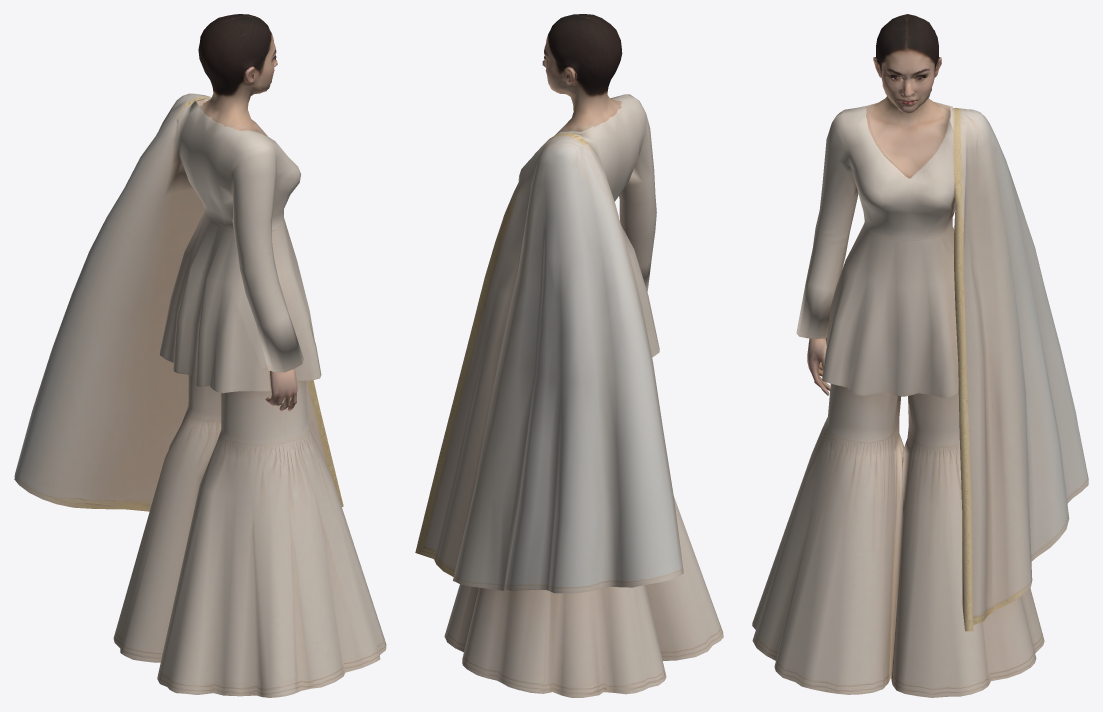
File: beige ethnic dress 3d model.glb
3 renders of one model, left to right at view 1: azimuth 30°, elevation 25°; view 2: azimuth 150°, elevation 25°; view 3: azimuth 270°, elevation 25°, orthographic.
Visible parts, largest first — view 1: tripo_node_98e030d7-dd69-4af5-b5ba-eee32c0057dc; view 2: tripo_node_98e030d7-dd69-4af5-b5ba-eee32c0057dc; view 3: tripo_node_98e030d7-dd69-4af5-b5ba-eee32c0057dc.
Boxes of the visible parts, x1,y1,x2,y2 form: tripo_node_98e030d7-dd69-4af5-b5ba-eee32c0057dc: (14,14,386,697); tripo_node_98e030d7-dd69-4af5-b5ba-eee32c0057dc: (415,14,723,697); tripo_node_98e030d7-dd69-4af5-b5ba-eee32c0057dc: (752,14,1088,697).
Bounding box in the file's own units: 0.4824 × 0.998 × 0.4785.
1 material, 1 textured.
